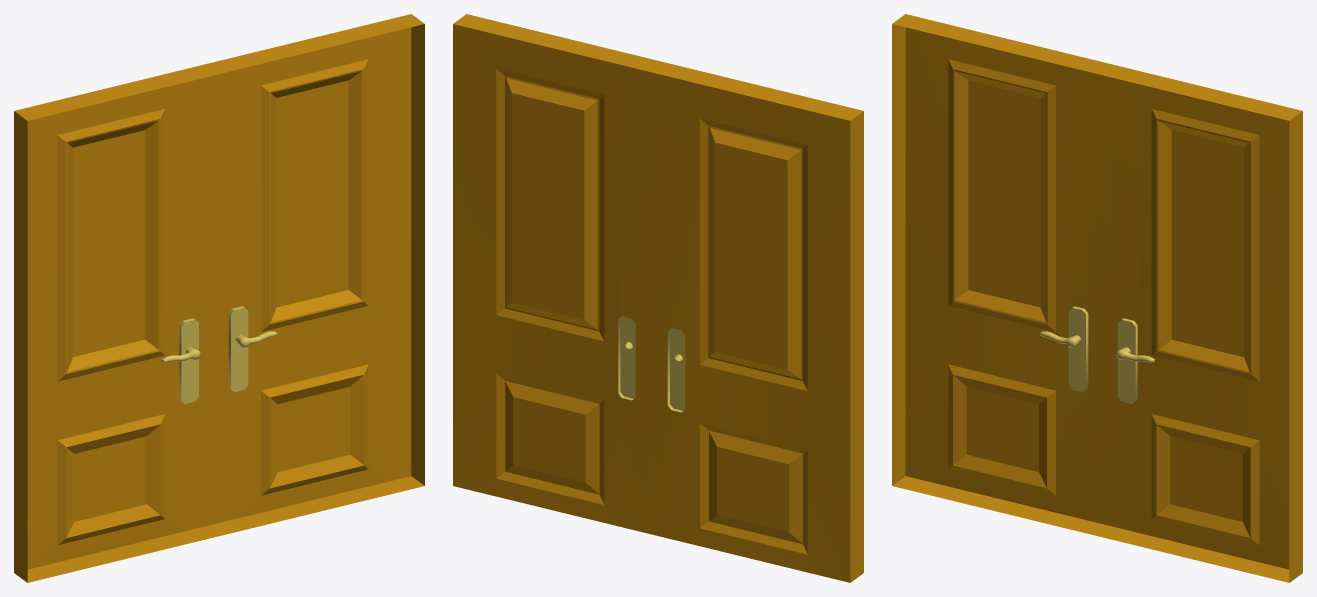
Rendered from marco_puertaDobleFalsa.fbx.
3 views of the same model, side by side, from view 1: azimuth 30°, elevation 25°; view 2: azimuth 150°, elevation 25°; view 3: azimuth 330°, elevation 25° (orthographic).
Parts seen in each view (by area): view 1: marco_puertaDobleFalsa; view 2: marco_puertaDobleFalsa; view 3: marco_puertaDobleFalsa.
Part boxes in pixels (left/top/right/bottom): marco_puertaDobleFalsa: left=14, top=14, right=424, bottom=582; marco_puertaDobleFalsa: left=453, top=14, right=863, bottom=582; marco_puertaDobleFalsa: left=892, top=14, right=1302, bottom=582.
Size of the model in its own units: 270 by 300 by 18.19.
